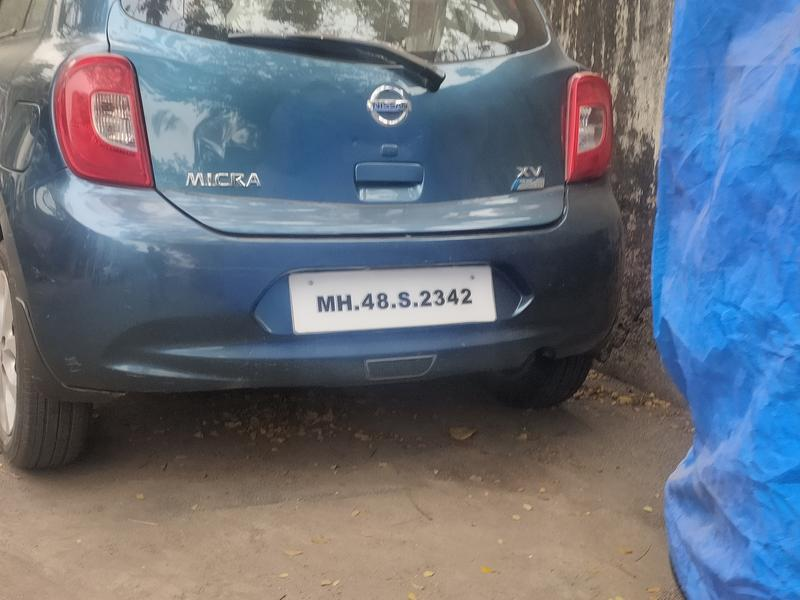license_plate: (279, 264, 509, 330)
